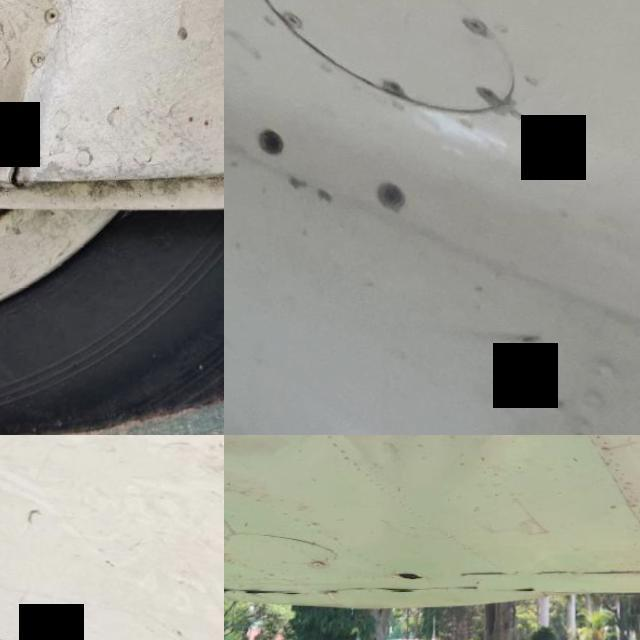Crack: (0, 120, 44, 189)
Missing_Fastener: (250, 130, 292, 158), (374, 184, 406, 212)
